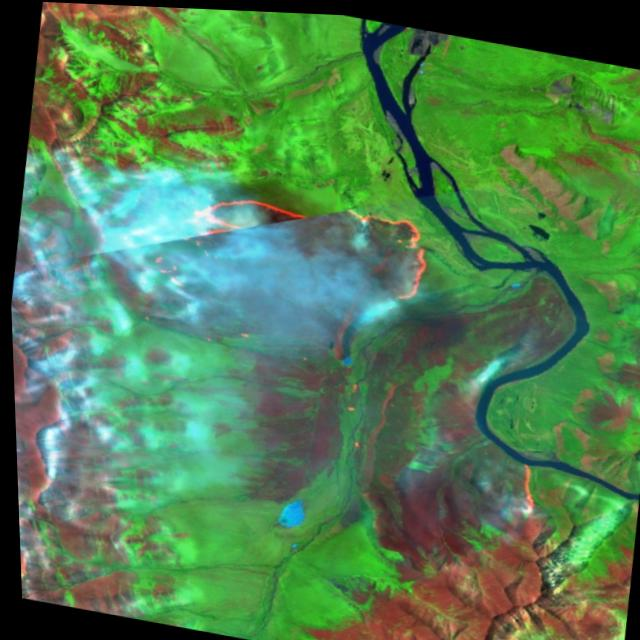fire: (107, 165, 437, 338), (488, 449, 553, 520)
